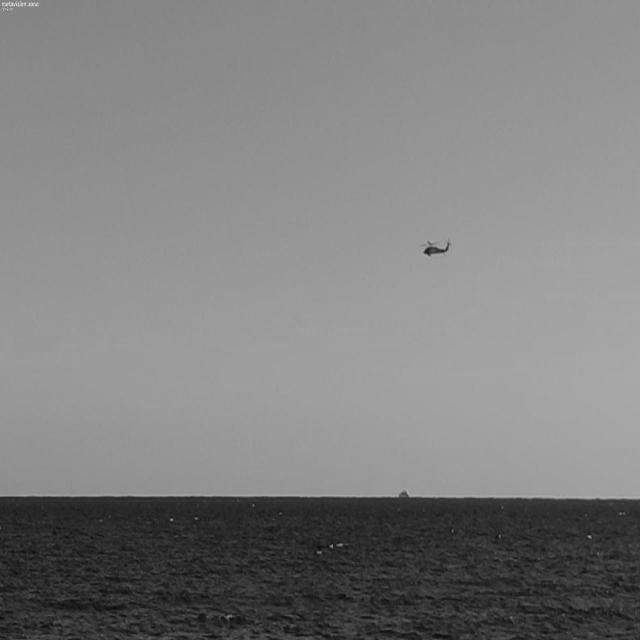helikopter: (404, 214, 471, 298)
